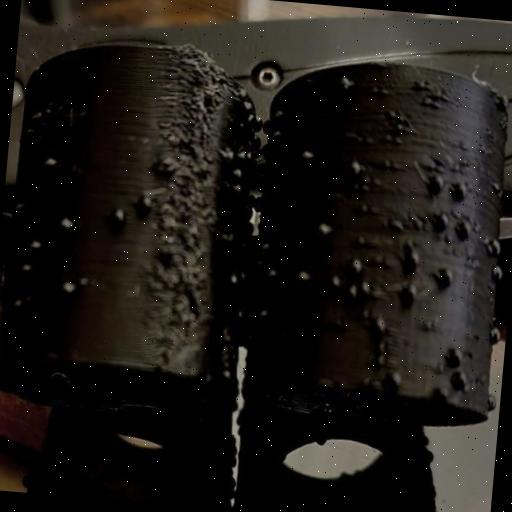blobs: (426, 164, 452, 196), (4, 292, 32, 321), (453, 214, 479, 244), (287, 264, 318, 289), (54, 208, 78, 240), (38, 146, 63, 176), (485, 233, 509, 264), (340, 152, 366, 180), (108, 204, 131, 235), (308, 216, 336, 241), (402, 244, 425, 274), (136, 185, 158, 216), (58, 273, 80, 303), (368, 314, 394, 338), (450, 178, 472, 206), (334, 70, 356, 98), (320, 270, 344, 294), (446, 344, 468, 370), (435, 264, 456, 291), (455, 364, 475, 392), (16, 257, 38, 282), (401, 284, 419, 311), (299, 142, 319, 166), (386, 364, 406, 388), (22, 235, 44, 256), (487, 260, 506, 284), (224, 266, 242, 290), (264, 266, 284, 286), (270, 104, 288, 126), (488, 320, 502, 348), (226, 167, 246, 186), (347, 254, 363, 277), (230, 182, 248, 202), (344, 284, 362, 304), (258, 239, 277, 257), (268, 127, 286, 146), (356, 280, 374, 298), (383, 106, 400, 123), (484, 393, 500, 411), (242, 94, 258, 112), (488, 178, 504, 194), (395, 117, 407, 134), (416, 80, 431, 92)
